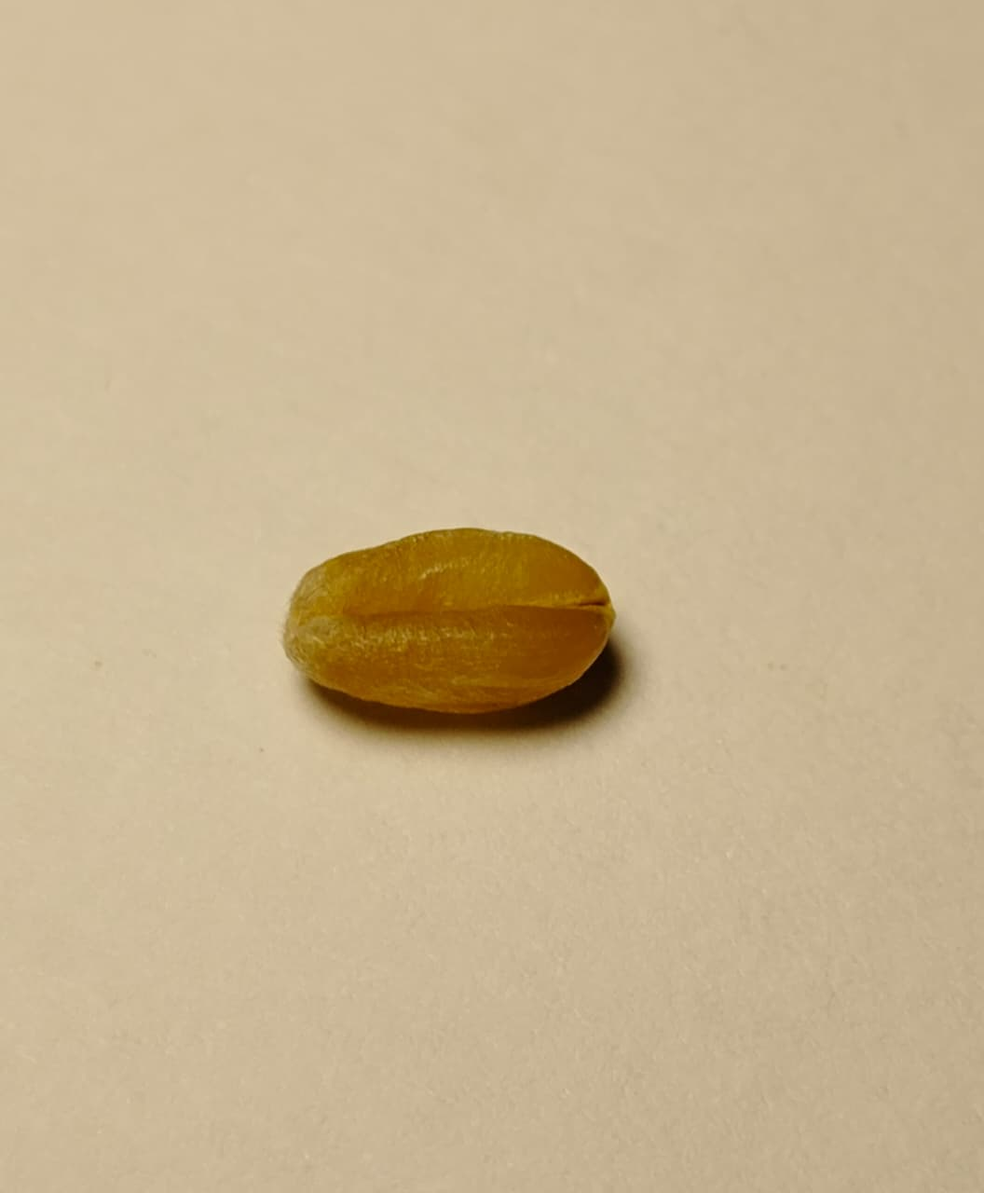healthy: (281, 526, 615, 712)
